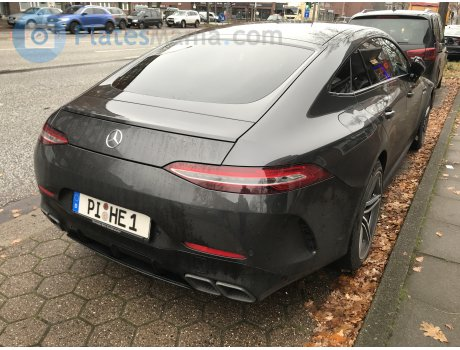License Plates: (77, 198, 142, 229)
